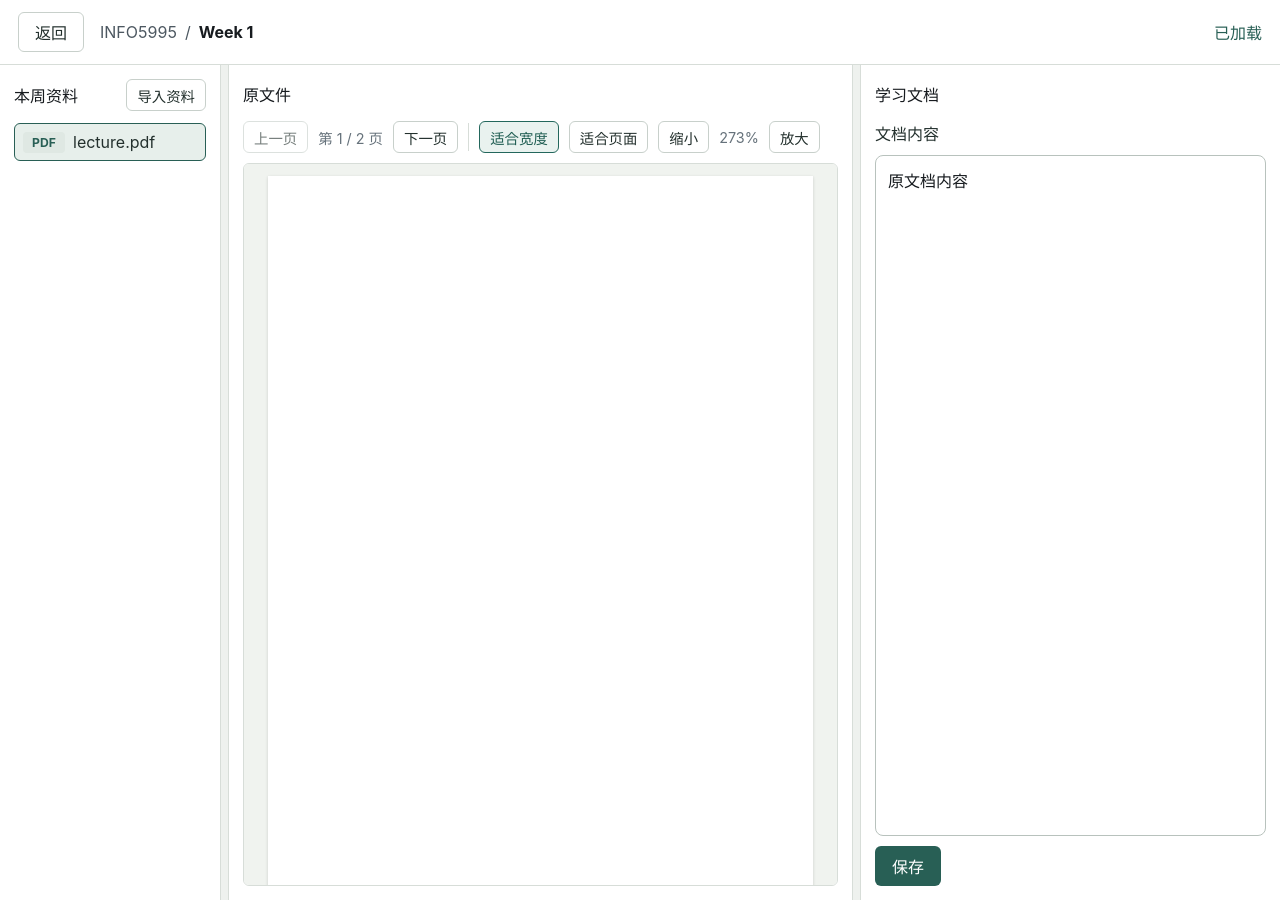
WorkspacePage › PDF 类型进入 PDF Preview 分支
This screenshot has width=1280, height=900.
Expected: the text "INFO5995" is shown, x1=100 y1=22 x2=177 y2=42
Expected: the text "Week 1" is shown, x1=199 y1=22 x2=253 y2=42
What coordinates should you click on to do the following:
click the button "下一页"
I would click on:
 (426, 137)
Its box is x1=393 y1=121 x2=458 y2=153.
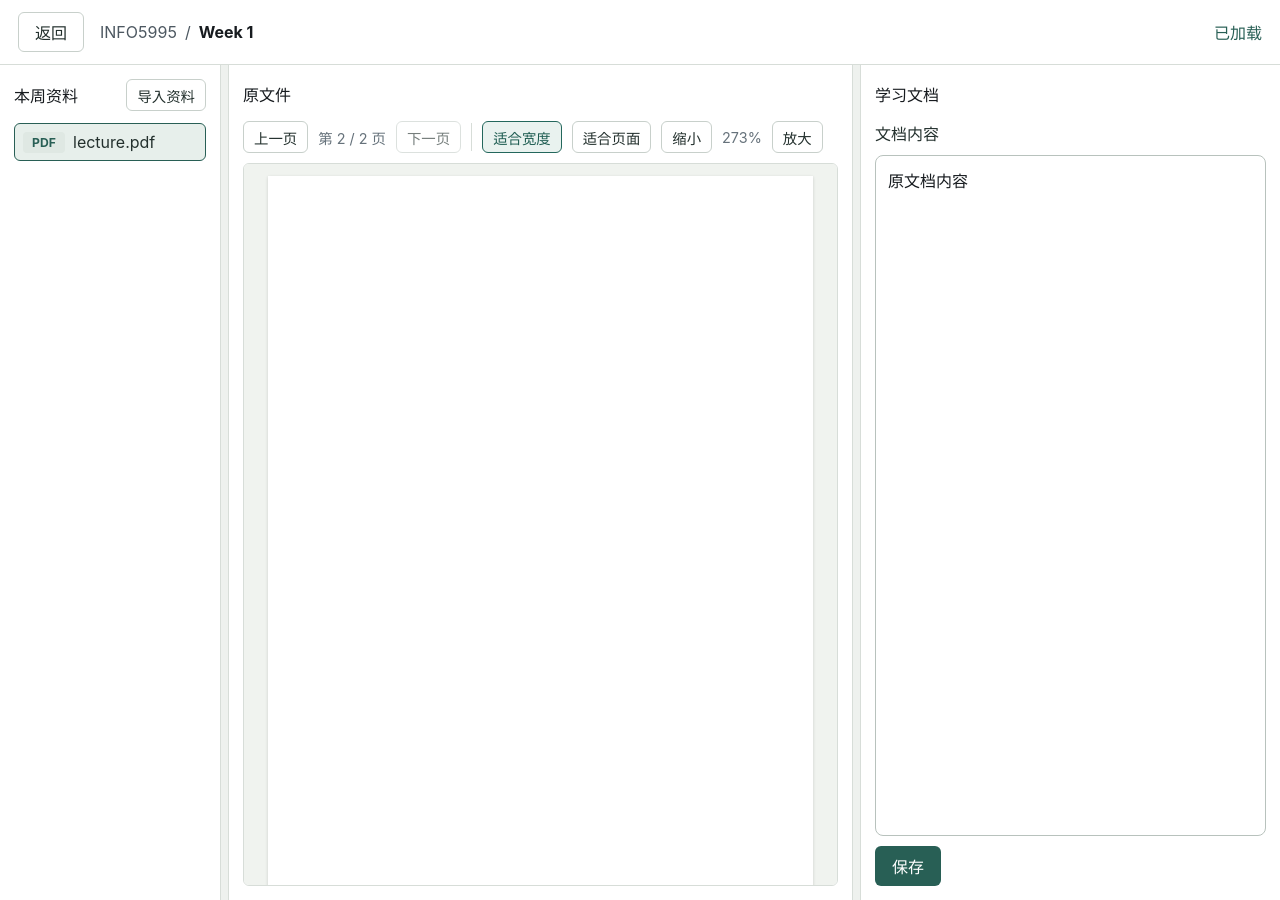
Result: the text "第 2 / 2 页" is shown at x1=318 y1=126 x2=386 y2=148
